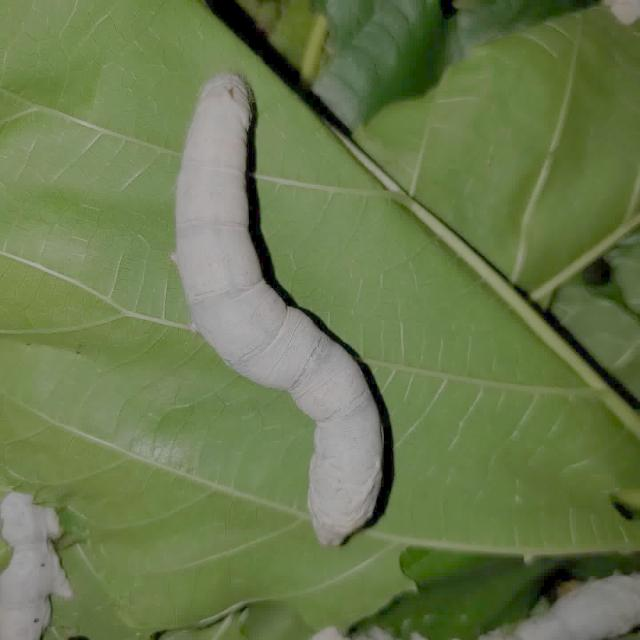Healthy: (162, 66, 389, 552)
